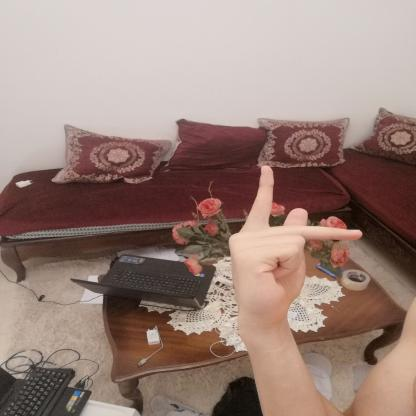DHAA: (215, 158, 373, 335)
